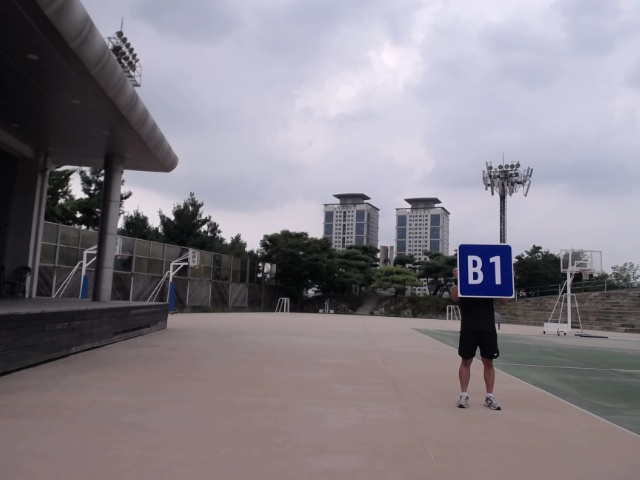delivery_b1: (457, 242, 514, 298)
